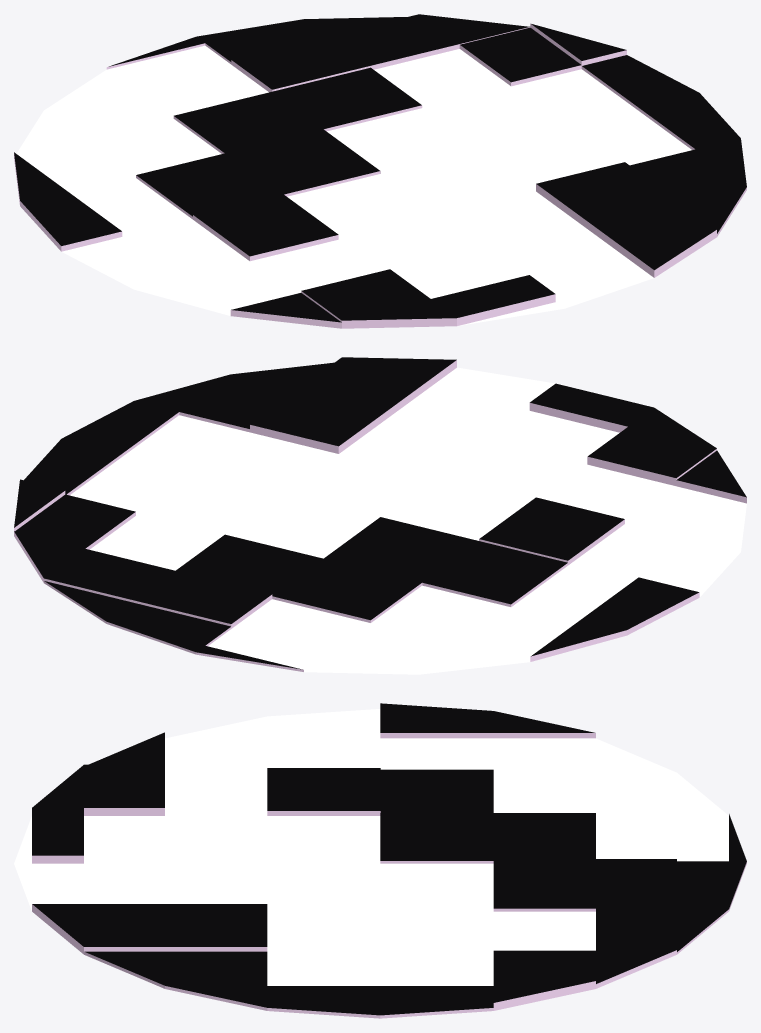
Rendered from Cyberpunk Round Tile.001.glb.
The picture shows the model from 3 angles, top to bottom: view 1: azimuth 30°, elevation 25°; view 2: azimuth 150°, elevation 25°; view 3: azimuth 270°, elevation 25°; orthographic projection.
Visible parts, largest first — view 1: Cyberpunk Round Tile.001; view 2: Cyberpunk Round Tile.001; view 3: Cyberpunk Round Tile.001.
Part boxes in pixels (x1,y1,x2,y2): Cyberpunk Round Tile.001: [14, 14, 746, 328]; Cyberpunk Round Tile.001: [14, 357, 746, 674]; Cyberpunk Round Tile.001: [14, 703, 746, 1018].
Bounding box in the file's own units: 0.845 × 0.0102 × 0.845.
Materials: 1 (1 with a texture image).
